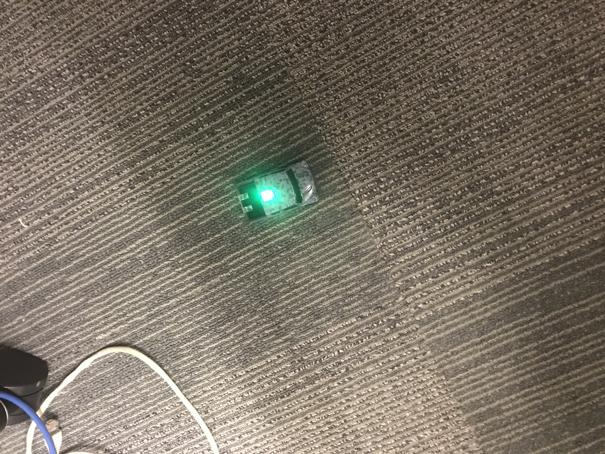MXT: (233, 158, 322, 224)
